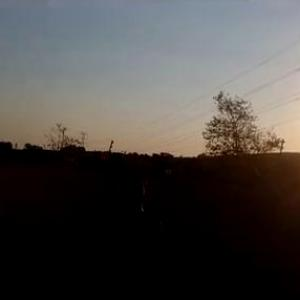follow: (92, 161, 174, 299)
